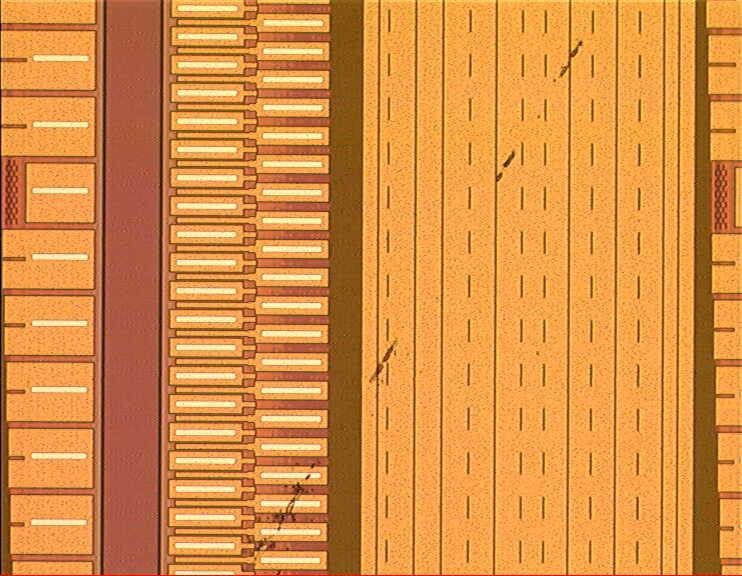SCRATCH: (239, 24, 596, 576)
